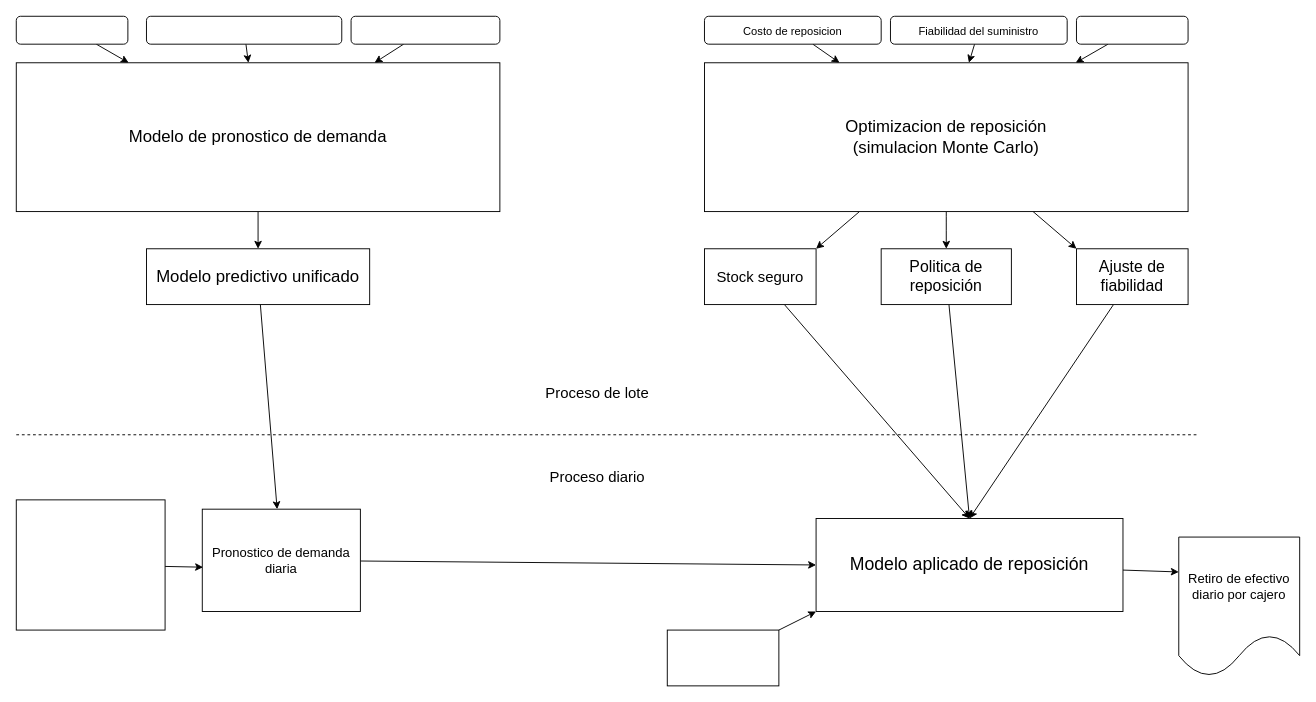
The diagram is 1316 pixels wide and 702 high, and some of its shapes have lost their labels. The box of each missing label's shape, as (x1, y1, x2, y2) in pixels:
Costo finciero: (1076, 15, 1188, 44)
Demanda historica: (15, 15, 128, 44)
Disponibilidad del cajero automatico: (146, 15, 342, 44)
Disponibilidad y retiros de los ultimos 120 dias: (15, 499, 165, 630)
Estado actual del inventario: (666, 629, 779, 686)
Perfil del cajero automatico: (350, 15, 500, 44)
